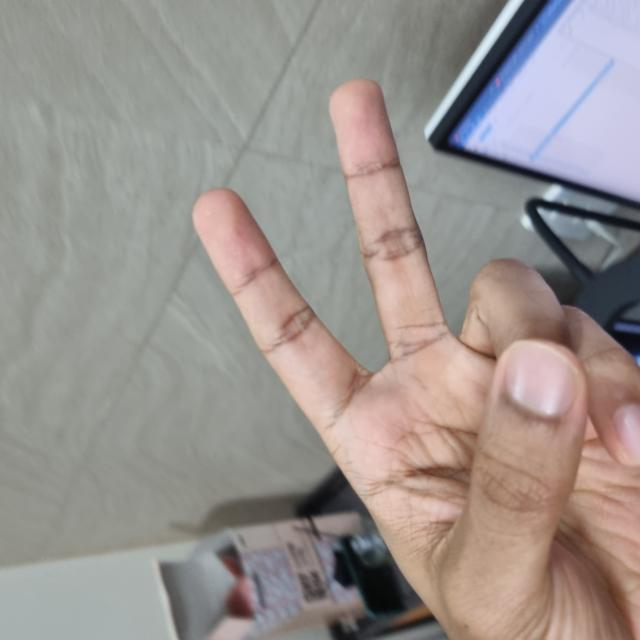Scissors: (0, 197, 558, 639)
